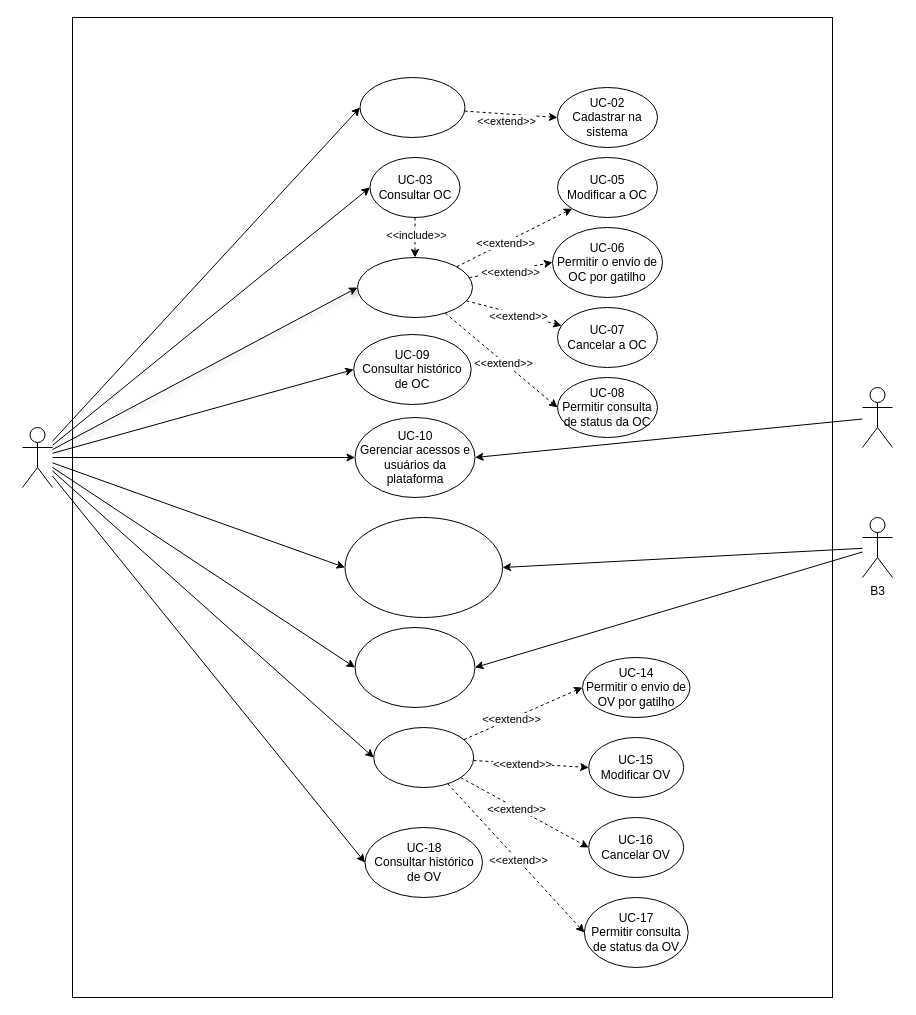
Some shapes in this 916 by 1015 pixel diagram are drawn without their labels. The centre of each missing label's shape, as x and y in pixels:
Suporte: the point at 877,417
U C-04 Permitir o envio de OC: the point at 414,287
UC-01 Logar no sistema: the point at 412,107
UC-11 Consultar métricas de abertura, fechamento, máxima e mínima diária: the point at 423,567
UC-12 Cotar ações em carteira: the point at 414,667
UC-13 Efetuar OV: the point at 423,757
Usuário: the point at 37,457
